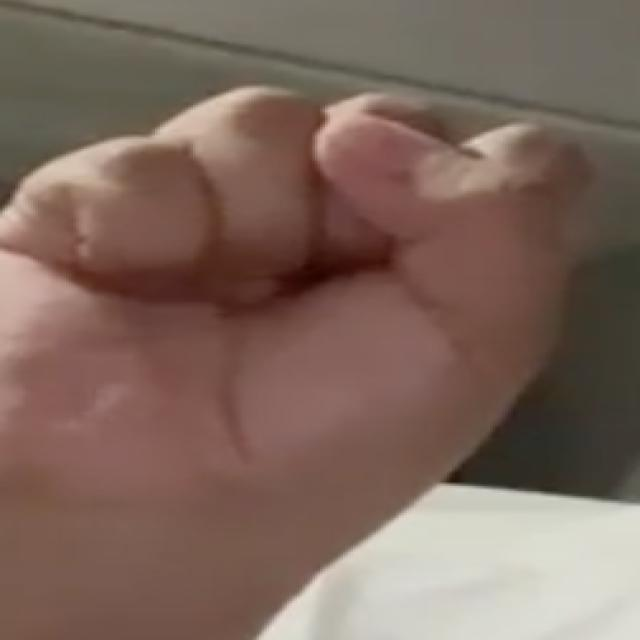S: (0, 78, 587, 552)
